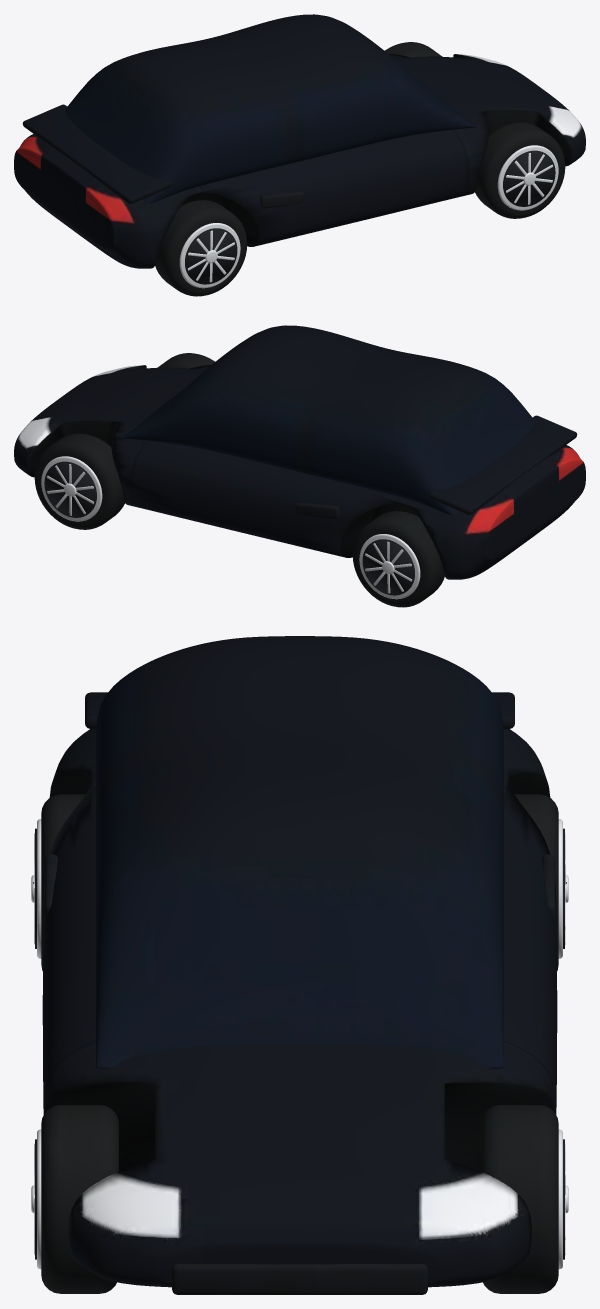
The model's file is car-2.glb.
The picture shows the model from 3 angles, top to bottom: view 1: azimuth 30°, elevation 25°; view 2: azimuth 150°, elevation 25°; view 3: azimuth 270°, elevation 25°; orthographic projection. The views are drawn at different scales.
Parts seen in each view (by area): view 1: Body_2, Body, Body_4, Body_6, Body_5, Body_1, Body_3; view 2: Body_2, Body, Body_4, Body_6, Body_5, Body_1, Body_3; view 3: Body_2, Body, Body_4, Body_1, Body_3, Body_5, Body_6.
Part boxes in pixels (x1=…): Body_2: x1=65, y1=14, x2=478, y2=204; Body: x1=14, y1=54, x2=585, y2=268; Body_4: x1=155, y1=42, x2=565, y2=296; Body_6: x1=185, y1=150, x2=555, y2=284; Body_5: x1=179, y1=145, x2=558, y2=288; Body_1: x1=181, y1=54, x2=571, y2=246; Body_3: x1=260, y1=191, x2=304, y2=208; Body_2: x1=121, y1=325, x2=534, y2=515; Body: x1=14, y1=365, x2=585, y2=579; Body_4: x1=34, y1=353, x2=444, y2=607; Body_6: x1=44, y1=461, x2=414, y2=595; Body_5: x1=41, y1=456, x2=420, y2=599; Body_1: x1=28, y1=365, x2=418, y2=557; Body_3: x1=295, y1=502, x2=339, y2=519; Body_2: x1=96, y1=636, x2=503, y2=1068; Body: x1=42, y1=692, x2=557, y2=1287; Body_4: x1=41, y1=794, x2=558, y2=1293; Body_1: x1=44, y1=772, x2=555, y2=1171; Body_3: x1=44, y1=854, x2=555, y2=1294; Body_5: x1=31, y1=819, x2=568, y2=1269; Body_6: x1=35, y1=828, x2=564, y2=1259.
Bounding box in the file's own units: 4.02 × 1.4 × 1.93.
Materials: 9 (9 with a texture image).
